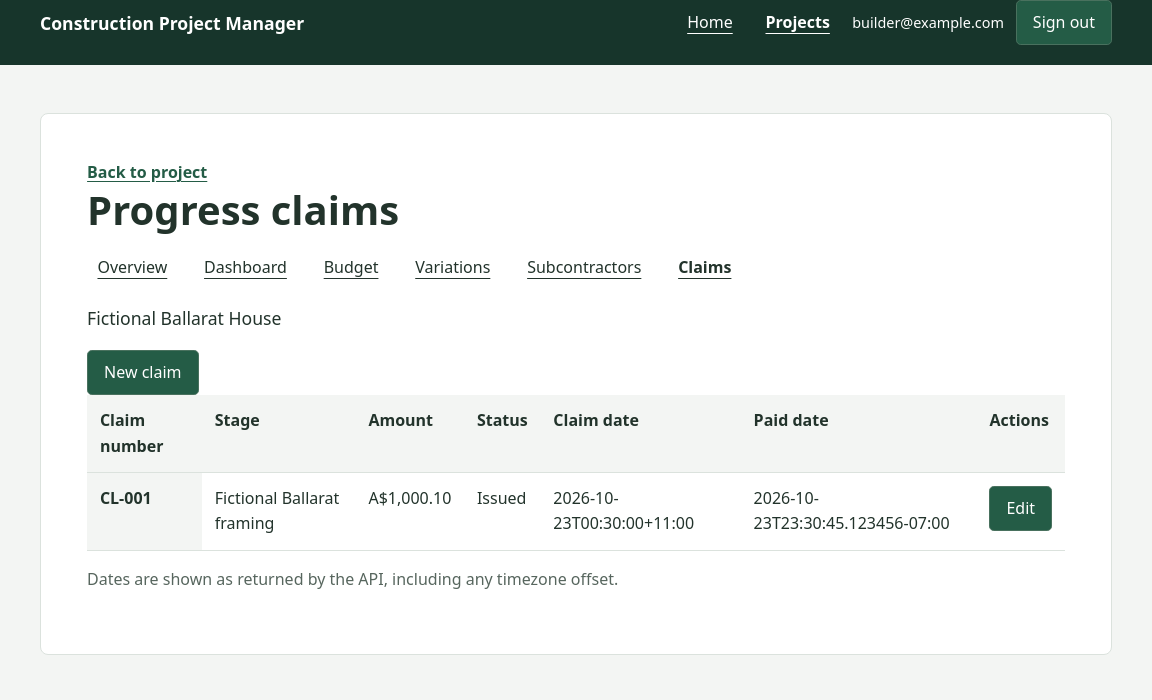
Scenario: sends only changed amount and preserves original datetime fields
Click the button with aria-label "Edit CL-001".
click(1021, 508)  # box [990,486,1052,531]
(page scrolled)
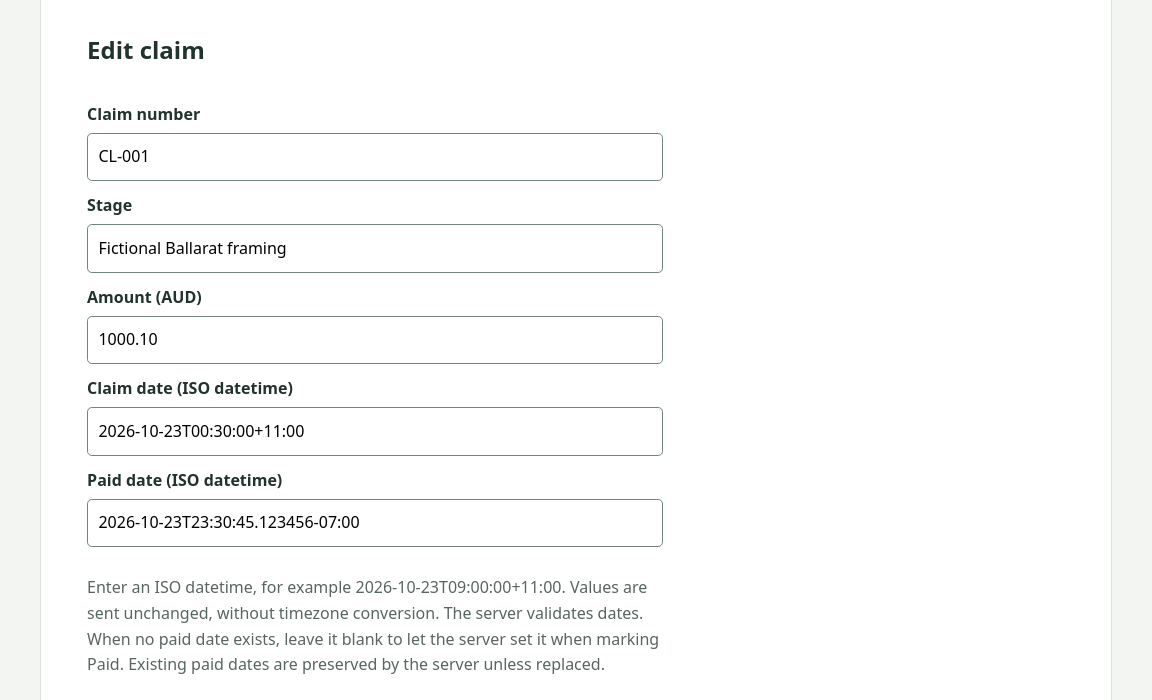
Check: the field labelled "Claim date (ISO datetime)" holds "2026-10-23T00:30:00+11:00", box [87,408,663,456]
Check: the field labelled "Paid date (ISO datetime)" holds "2026-10-23T23:30:45.123456-07:00", box [87,499,663,547]
Replace the text in the field labelled "Amount (AUD)" with "2345.67" at (375, 340), box [87,316,663,364]
(page scrolled)
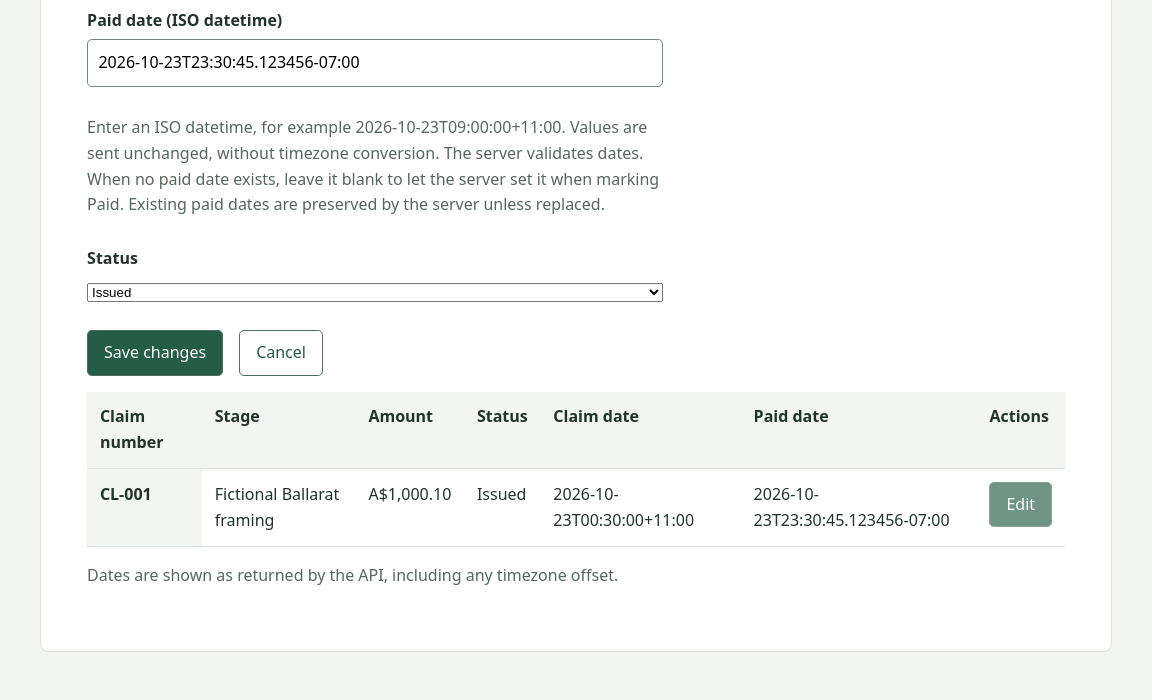
Click the button "Save changes".
click(155, 353)  # box [87,330,223,376]
(page scrolled)
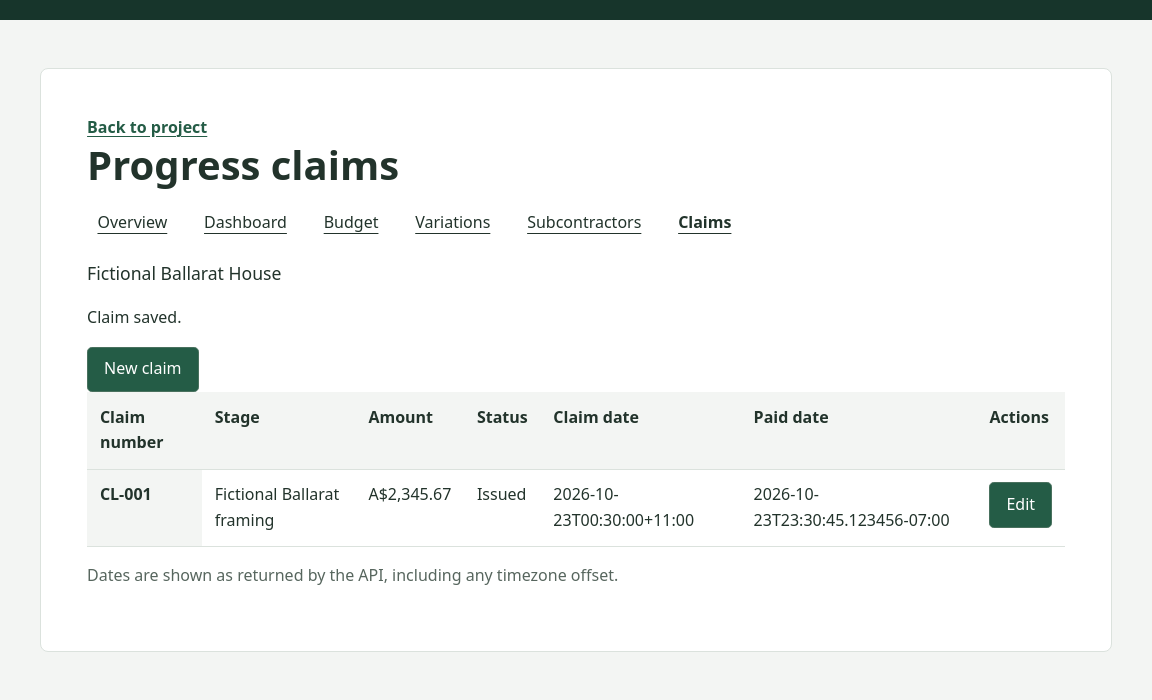
Check: the text "2026-10-23T23:30:45.123456-07:00" is shown, box [741,470,977,547]
Check: the text "A$2,345.67" is shown, box [356,470,464,547]
